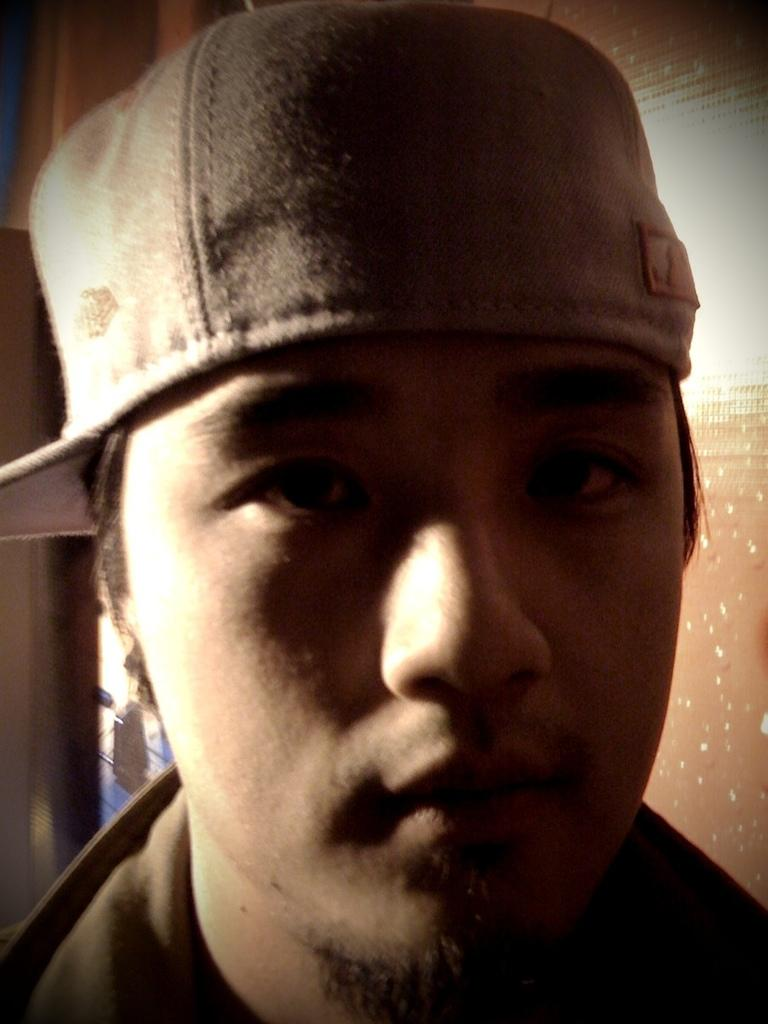Hat: (0, 0, 697, 540)
